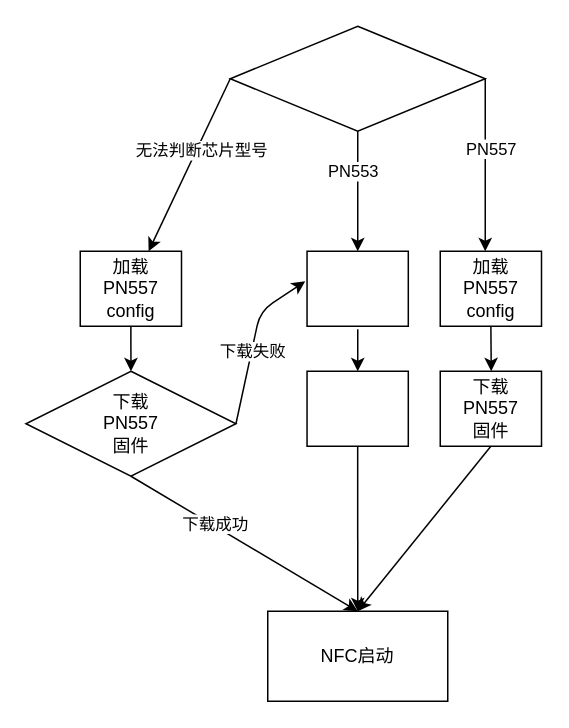
This 569x728 diagram has some shape labels left out. Each missing label, with the box of its shape:
下载 PN553 固件: (306, 370, 408, 446)
判断芯片型号: (229, 25, 485, 131)
加载 PN553 config: (306, 250, 408, 326)
